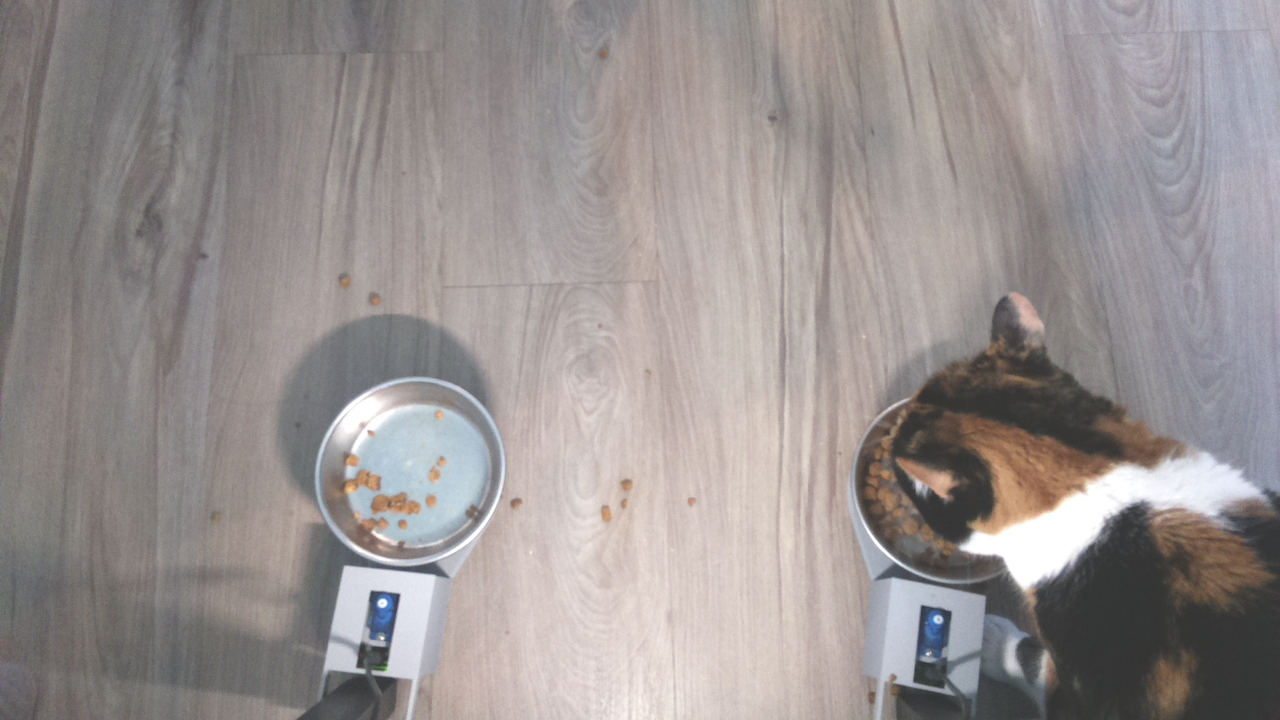bella_eating: (849, 285, 1235, 599)
open_bowl: (311, 375, 509, 571)
